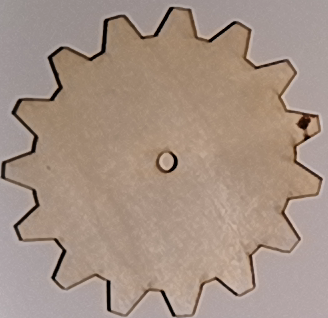Points: (293, 114, 312, 140)
